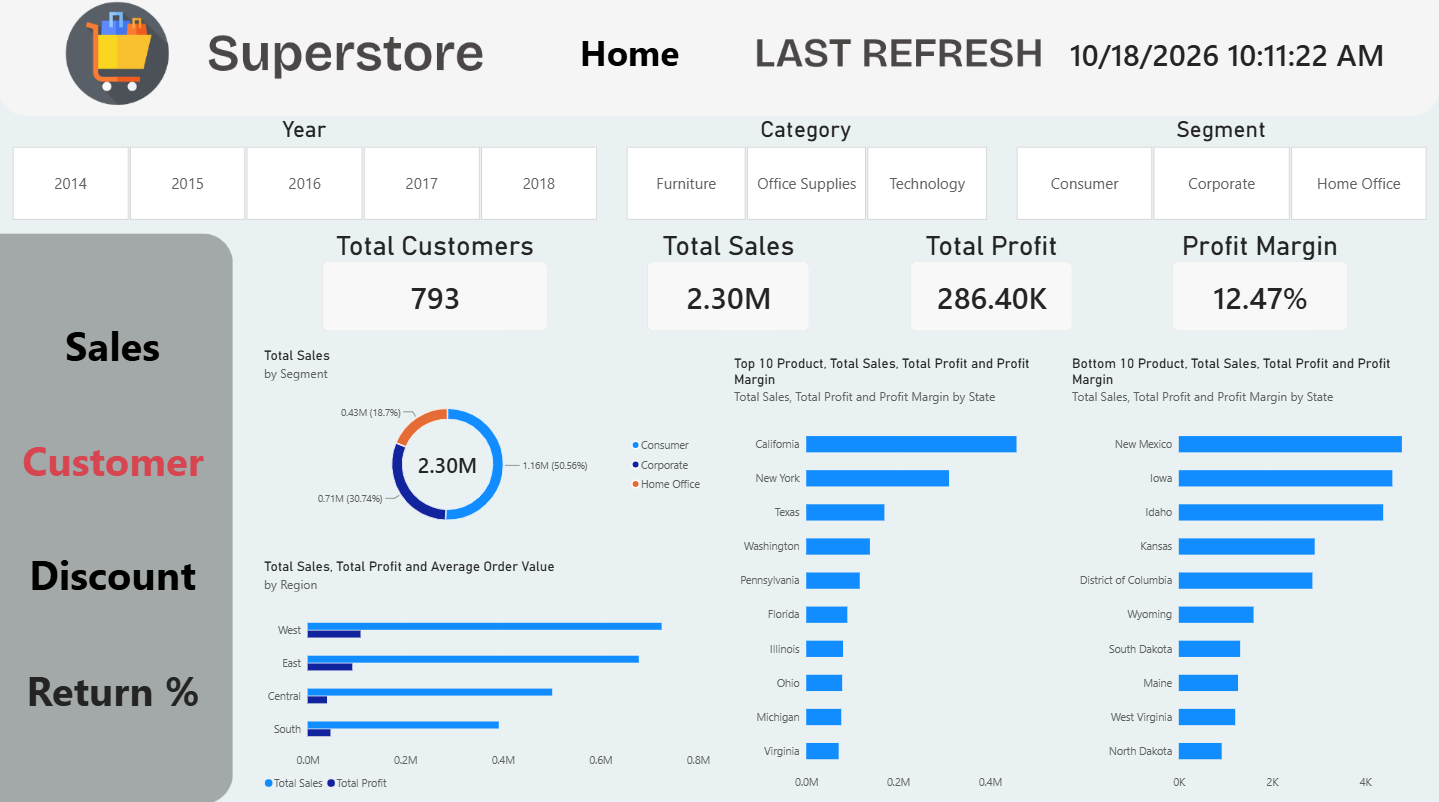

What the dashboard file says about the page in this screenshot:
{"tool":"powerbi","page":{"name":"Customer & Regional Analysis","canvas":[1920,1080],"ordinal":2},"visuals":[{"type":"cardVisual","title":"Total Sales","fields":{"Data":["All Measures.Total Sales"]},"box":[865,312.6,216.8,137],"z":0},{"type":"cardVisual","title":"Total Profit","fields":{"Data":["All Measures.Total Profit"]},"box":[1213.9,312.6,216.8,137],"z":1000},{"type":"cardVisual","title":"Profit Margin","fields":{"Data":["All Measures.Profit Margin"]},"box":[1562.8,312.6,234.1,137],"z":2000},{"type":"cardVisual","title":"Total Customers","fields":{"Data":["Count(Dim Customer.Customer Key)"]},"box":[432.3,312.6,300.6,137],"z":3000},{"type":"donutChart","fields":{"Category":["Dim Customer.Segment"],"Y":["All Measures.Total Sales"]},"box":[339.2,456.2,621.1,280.6],"z":4000},{"type":"clusteredBarChart","fields":{"Category":["Dim Location.Region"],"Y":["All Measures.Total Sales","All Measures.Total Profit"]},"box":[339.2,736.8,625.1,343.2],"z":5000},{"type":"clusteredBarChart","title":"Top 10 Product, Total Sales, Total Profit and Profit Margin","fields":{"Category":["Dim Location.State"],"Y":["All Measures.Total Sales"]},"box":[964.3,466.8,449.6,613.2],"z":6000},{"type":"clusteredBarChart","title":"Bottom 10 Product, Total Sales, Total Profit and Profit Margin","fields":{"Category":["Dim Location.State"],"Y":["All Measures.Total Sales"]},"box":[1413.8,466.8,492.1,613.2],"z":7000},{"type":"cardVisual","title":"Return Rate","fields":{"Data":["All Measures.LastRefresh"]},"box":[1352.1,13.3,567.9,130.3],"z":8000},{"type":"actionButton","title":"Sales","box":[75.8,405.7,155.6,122.4],"z":9000},{"type":"actionButton","title":"Sales","box":[30.6,710.2,246.1,123.7],"z":10000},{"type":"actionButton","title":"Sales","box":[21.3,558.6,266,122.4],"z":11000},{"type":"actionButton","title":"Sales","box":[26.6,864.5,255.4,122.4],"z":12000},{"type":"slicer","title":"Year","fields":{"Values":["Dim Date.Year"]},"box":[0,162.3,816.7,139.7],"z":13000},{"type":"slicer","title":"Segment","fields":{"Values":["Dim Customer.Segment"]},"box":[1334.8,162.3,585.2,139.7],"z":14000},{"type":"slicer","title":"Category","fields":{"Values":["Dim Product.Category"]},"box":[816.7,162.3,518.7,139.7],"z":15000},{"type":"actionButton","title":"Sales","box":[755.5,17.3,171.6,122.4],"z":16000}]}

Visuals, with their boxes in screenshot pixels (x1, y1, x2, y2), scaled from the page's 1920x1080 canvas onto the 1439x802 screenshot:
"Total Sales" cardVisual: {"x1": 648, "y1": 232, "x2": 811, "y2": 334}
"Total Profit" cardVisual: {"x1": 910, "y1": 232, "x2": 1072, "y2": 334}
"Profit Margin" cardVisual: {"x1": 1171, "y1": 232, "x2": 1347, "y2": 334}
"Total Customers" cardVisual: {"x1": 324, "y1": 232, "x2": 549, "y2": 334}
donutChart - Dim Customer.Segment x All Measures.Total Sales: {"x1": 254, "y1": 339, "x2": 720, "y2": 547}
clusteredBarChart - Dim Location.Region x All Measures.Total Sales: {"x1": 254, "y1": 547, "x2": 723, "y2": 801}
"Top 10 Product, Total Sales, Total Profit and Profit Margin" clusteredBarChart: {"x1": 723, "y1": 347, "x2": 1060, "y2": 801}
"Bottom 10 Product, Total Sales, Total Profit and Profit Margin" clusteredBarChart: {"x1": 1060, "y1": 347, "x2": 1428, "y2": 801}
"Return Rate" cardVisual: {"x1": 1013, "y1": 10, "x2": 1438, "y2": 107}
"Sales" actionButton: {"x1": 57, "y1": 301, "x2": 173, "y2": 392}
"Sales" actionButton: {"x1": 23, "y1": 527, "x2": 207, "y2": 619}
"Sales" actionButton: {"x1": 16, "y1": 415, "x2": 215, "y2": 506}
"Sales" actionButton: {"x1": 20, "y1": 642, "x2": 211, "y2": 733}
"Year" slicer: {"x1": 0, "y1": 121, "x2": 612, "y2": 224}
"Segment" slicer: {"x1": 1000, "y1": 121, "x2": 1438, "y2": 224}
"Category" slicer: {"x1": 612, "y1": 121, "x2": 1001, "y2": 224}
"Sales" actionButton: {"x1": 566, "y1": 13, "x2": 695, "y2": 104}
